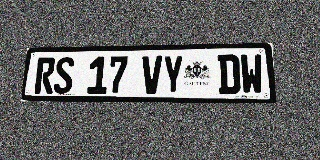1: (87, 56, 108, 94)
7: (107, 56, 128, 94)
D: (218, 54, 241, 94)
R: (34, 57, 56, 94)
S: (53, 57, 75, 94)
V: (141, 56, 162, 94)
W: (240, 54, 264, 94)
Y: (163, 55, 183, 94)
